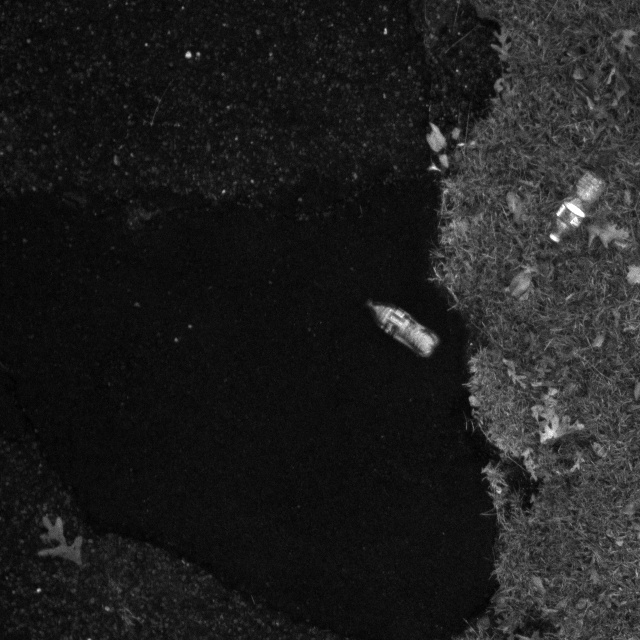bottle: (352, 294, 442, 361), (547, 169, 612, 246)
